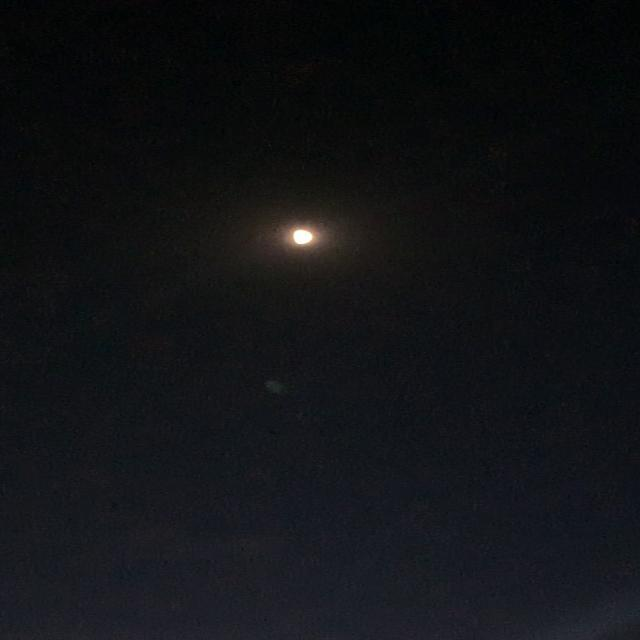moon: (283, 227, 325, 251)
